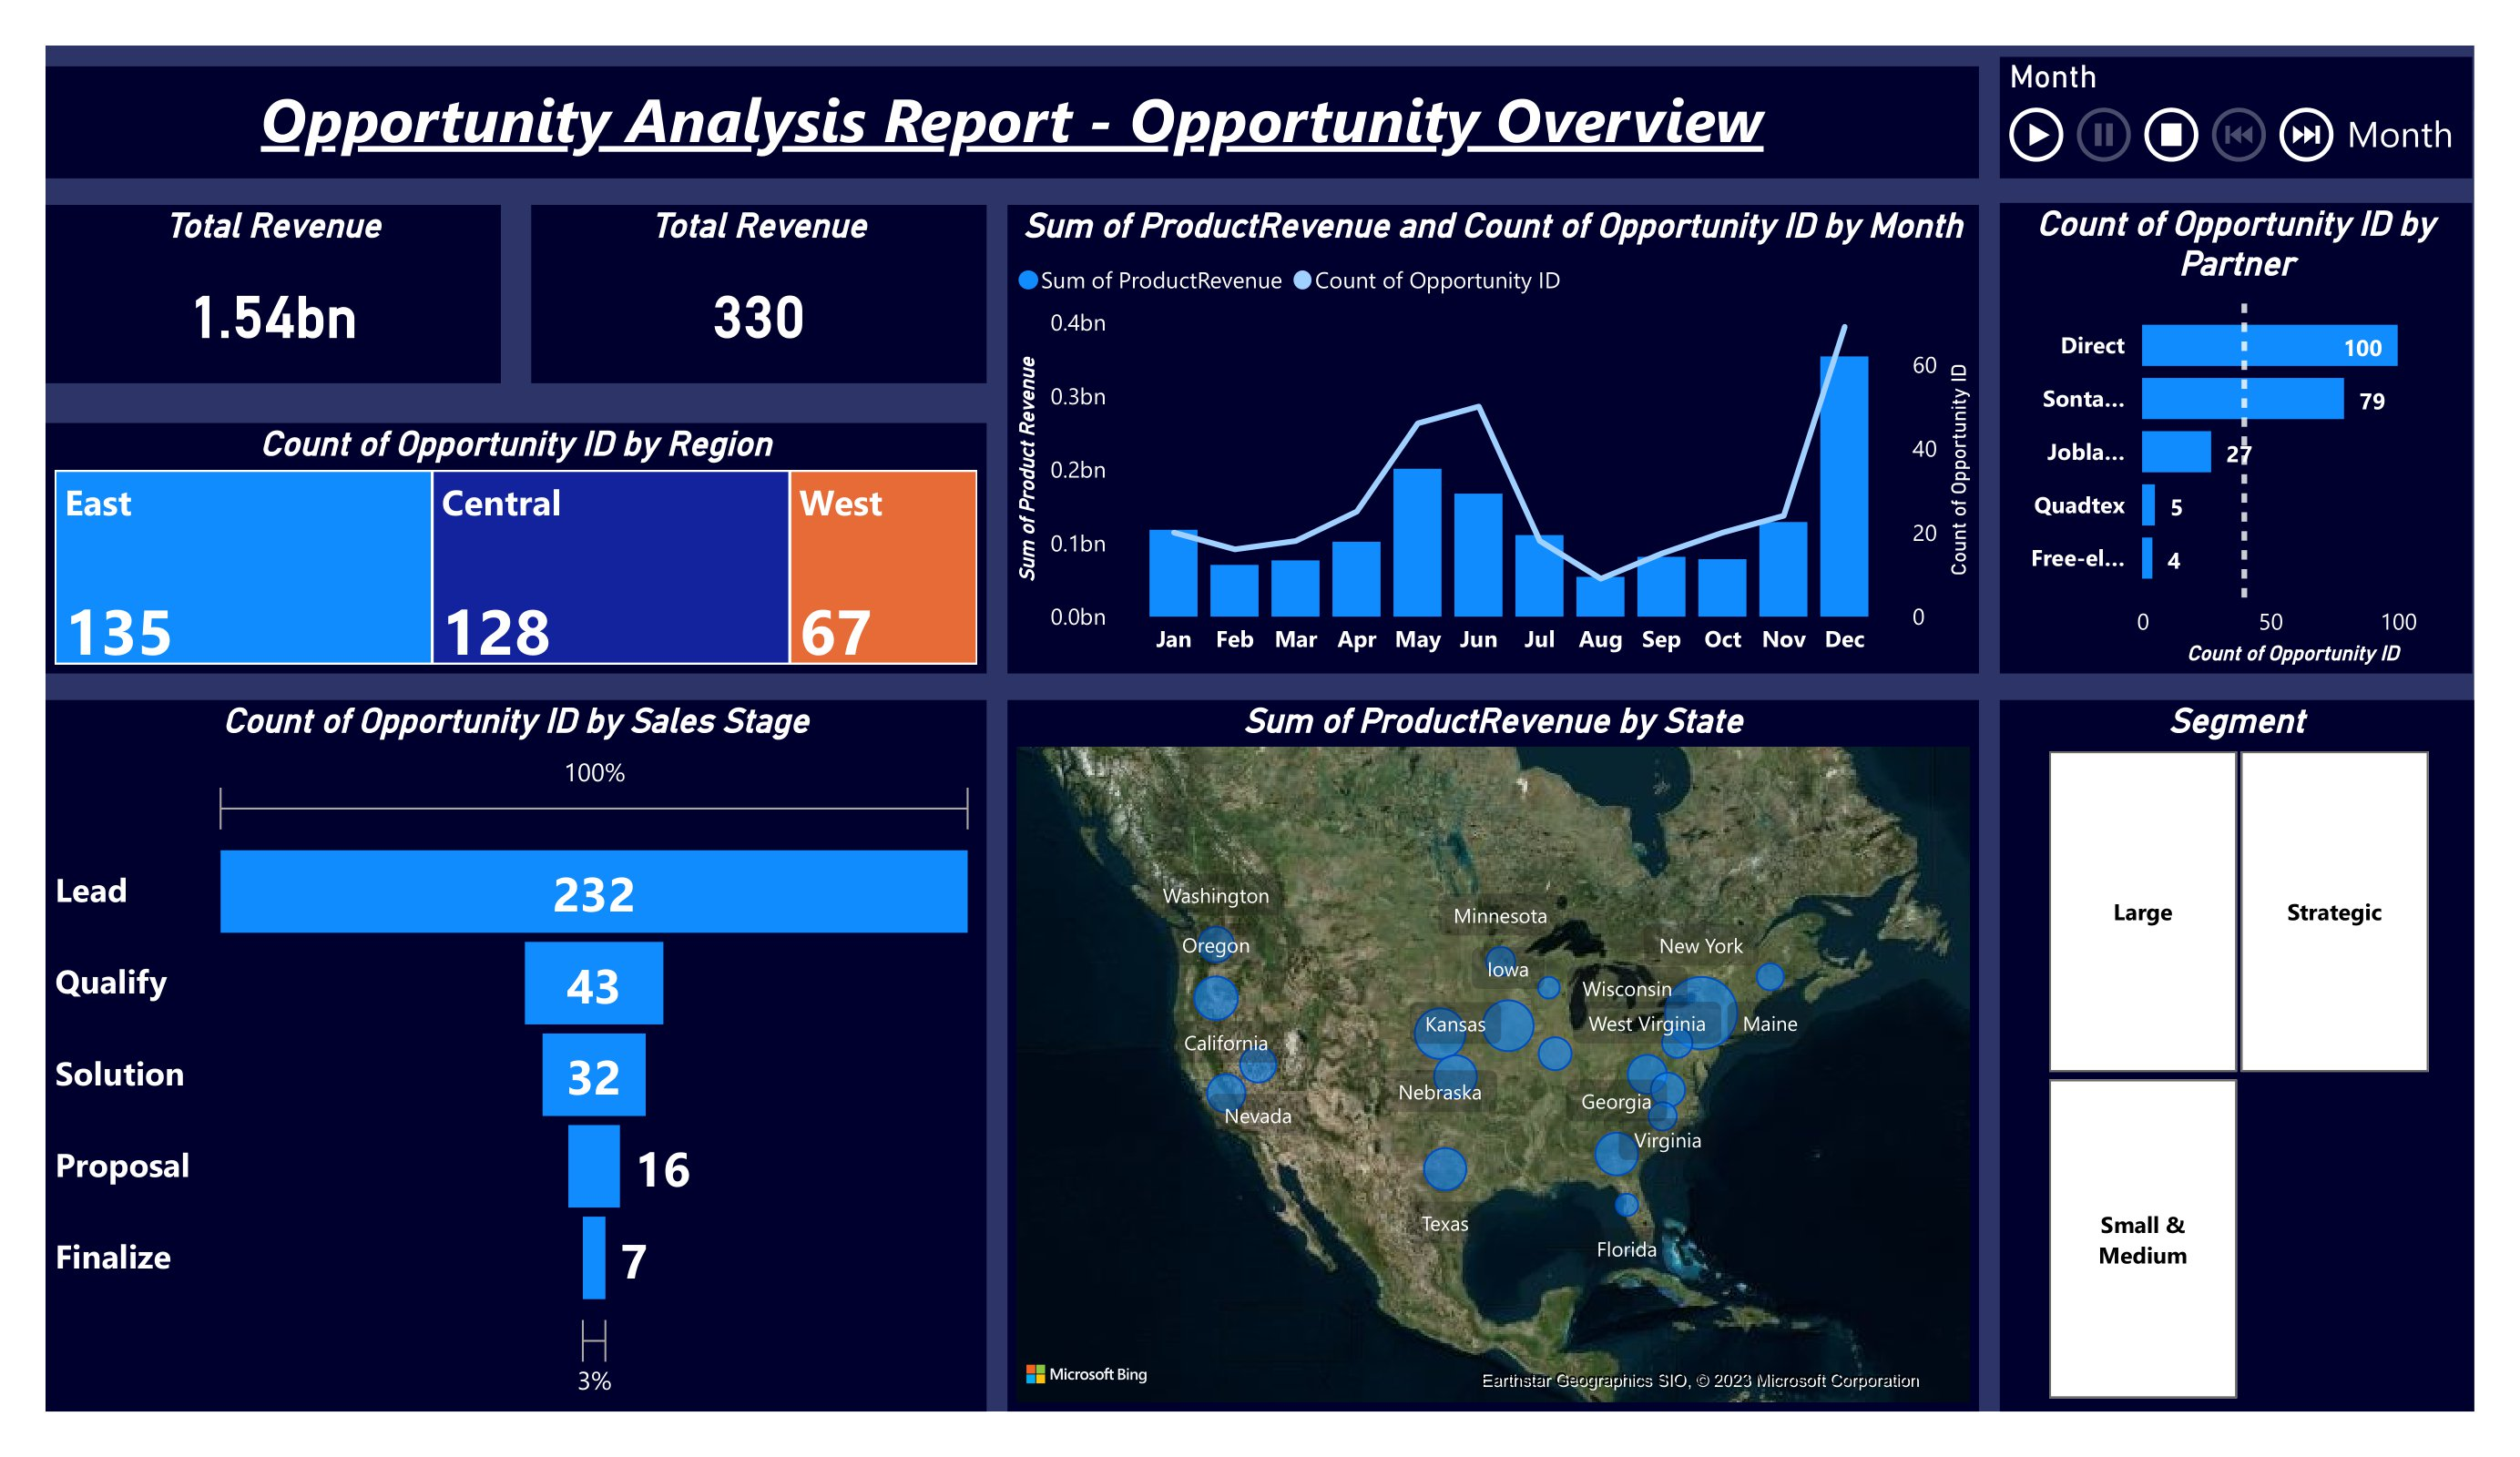

The page's visual inventory and layout, read from the dashboard file:
{"tool":"powerbi","page":{"name":"Opportunity Overview","canvas":[1280,720],"ordinal":0},"visuals":[{"type":"textbox","box":[0,11.1,1018.8,58.8],"z":0},{"type":"card","title":"Total Revenue","fields":{"Values":["Sum(Fact.ProductRevenue)"]},"box":[0,84.2,240,93.8],"z":1000},{"type":"card","title":"Total Revenue","fields":{"Values":["CountNonNull(Fact.Opportunity ID)"]},"box":[255.9,84.2,240,93.8],"z":2000},{"type":"treemap","fields":{"Group":["Account.Region"],"Values":["CountNonNull(Fact.Opportunity ID)"]},"box":[0,198.7,495.9,131.9],"z":3000},{"type":"lineClusteredColumnComboChart","fields":{"Y":["Sum(Fact.ProductRevenue)"],"Category":["Fact.Month"],"Y2":["CountNonNull(Fact.Opportunity ID)"]},"box":[507,84.2,511.8,246.4],"z":4000},{"type":"clusteredBarChart","fields":{"Y":["CountNonNull(Fact.Opportunity ID)"],"Category":["Partner.Partner"]},"box":[1029.9,82.6,249.5,247.9],"z":5000},{"type":"map","fields":{"Category":["Account.State"],"Size":["Sum(Fact.ProductRevenue)"]},"box":[507,344.9,511.8,375.1],"z":6000},{"type":"funnel","fields":{"Category":["SalesStage.Sales Stage"],"Y":["CountNonNull(Fact.Opportunity ID)"]},"box":[0,345,496,375],"z":7000},{"type":"PBI_CV_16948668_E17D_454B_8664_2F2C470EA8C1","fields":{"category":["Fact.Month"]},"box":[1029.9,6.4,249.5,63.6],"z":8000},{"type":"slicer","title":"Segment","fields":{"Values":["Account.Segment"]},"box":[1030,345,250,375],"z":9000}]}

Visuals, with their boxes in screenshot pixels (x1, y1, x2, y2):
textbox: 46, 66, 1979, 178
"Total Revenue" card: 46, 205, 501, 383
"Total Revenue" card: 531, 205, 986, 383
treemap - Account.Region x CountNonNull(Fact.Opportunity ID): 46, 423, 986, 673
lineClusteredColumnComboChart - Sum(Fact.ProductRevenue) x Fact.Month: 1007, 205, 1979, 673
clusteredBarChart - CountNonNull(Fact.Opportunity ID) x Partner.Partner: 2000, 202, 2474, 673
map - Account.State x Sum(Fact.ProductRevenue): 1007, 700, 1979, 1411
funnel - SalesStage.Sales Stage x CountNonNull(Fact.Opportunity ID): 46, 700, 986, 1411
PBI_CV_16948668_E17D_454B_8664_2F2C470EA8C1 - Fact.Month: 2000, 57, 2474, 178
"Segment" slicer: 2000, 700, 2474, 1411
